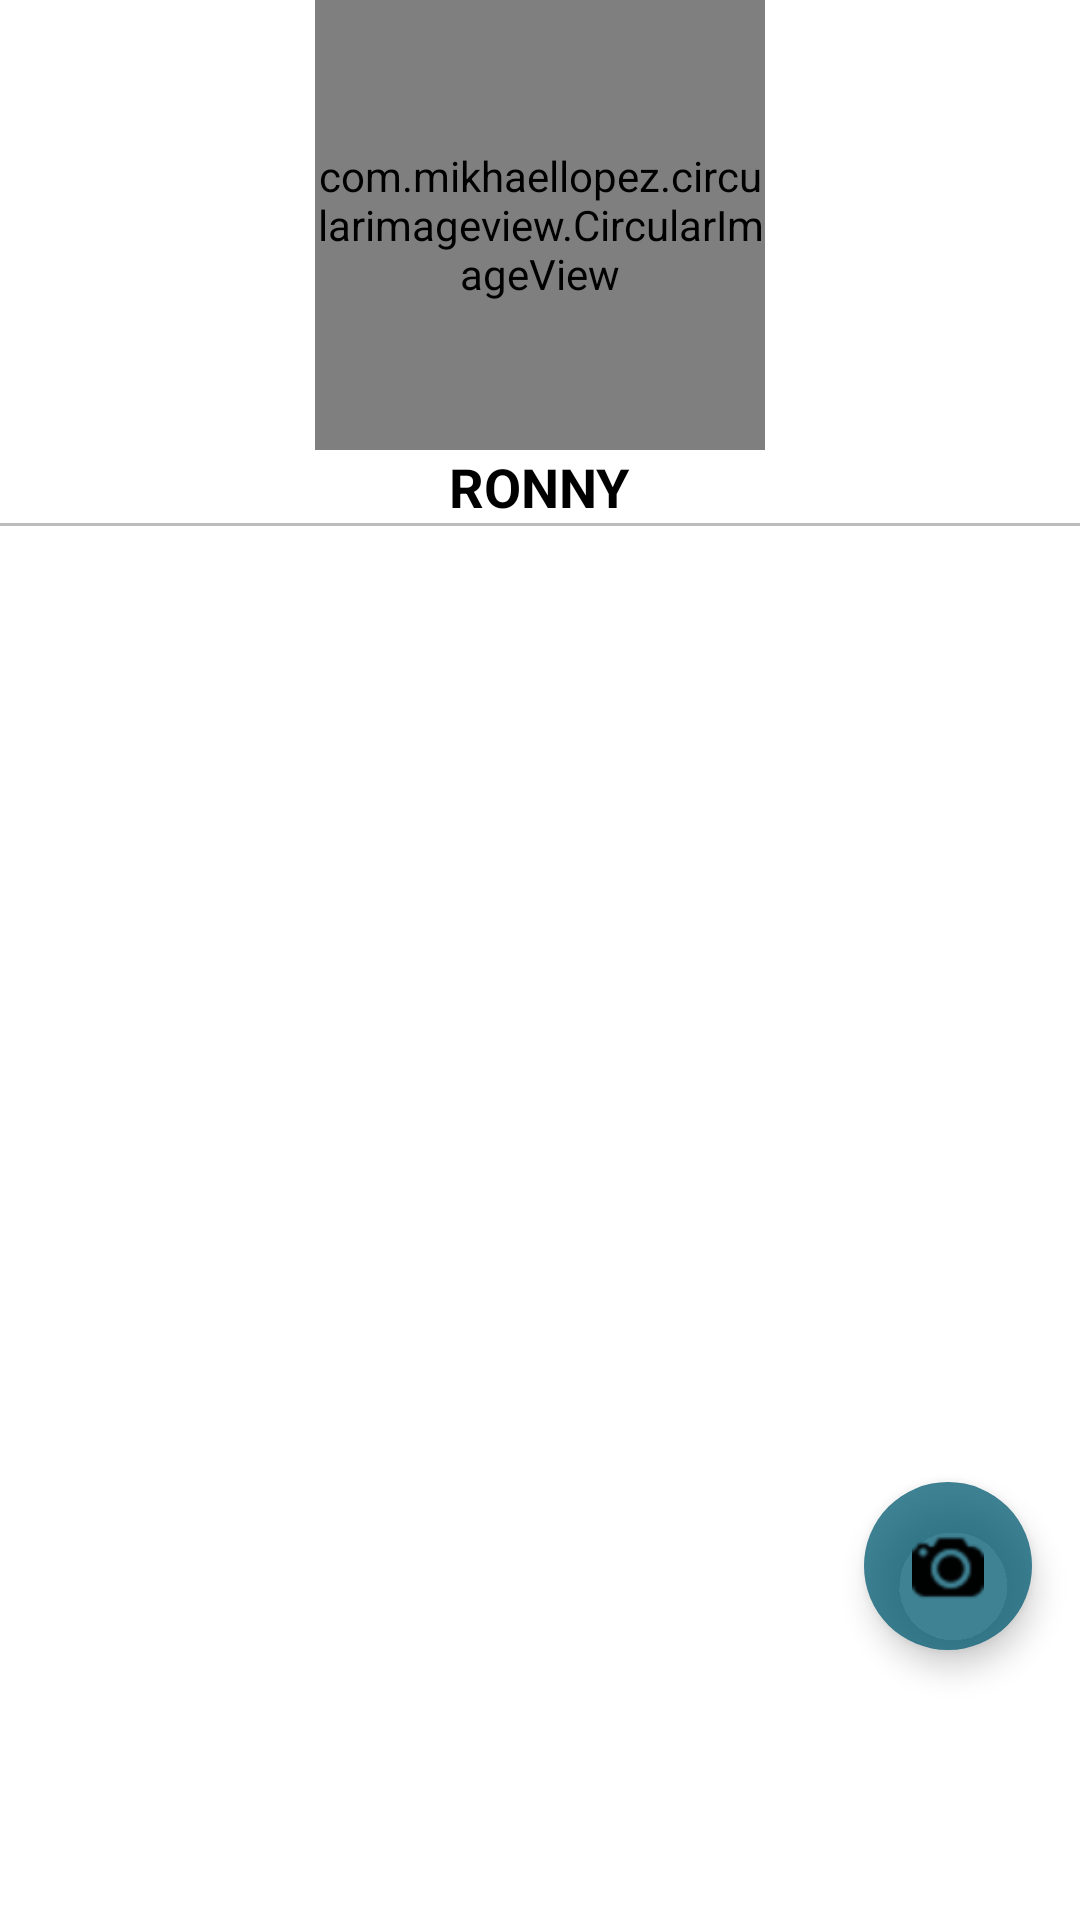

Icon click points for this 1080w x 1920h phone screenshot, format (x=x, y=y):
camera: (x=948, y=1566)
